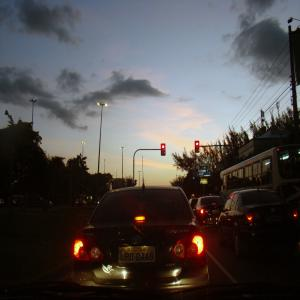Vehicle-registration-plate: (117, 246, 158, 263)
